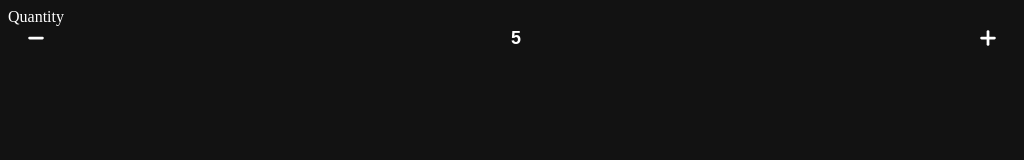
it: kit fields › the stepper counts up and down within its limits
Click the button named "More pieces" at (988, 38), box top-left (960, 26), bottom-right (1016, 50)
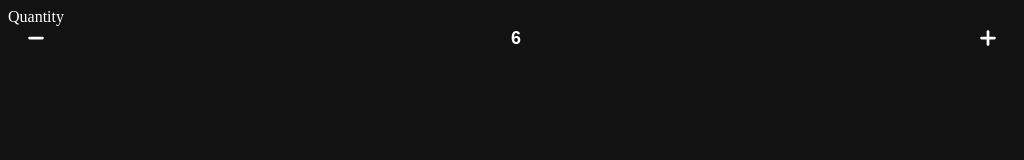
Click the button named "More pieces" at (988, 38), box top-left (960, 26), bottom-right (1016, 50)
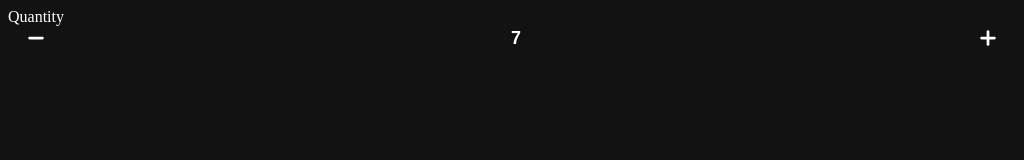
Result: the number field labelled "Quantity" holds "7"
Replace the text in the number field labelled "Quantity" with "0" at (516, 38), box top-left (64, 26), bottom-right (968, 50)
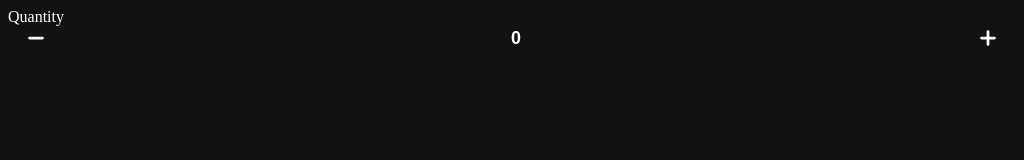
Leave the number field labelled "Quantity", box top-left (64, 26), bottom-right (968, 50)
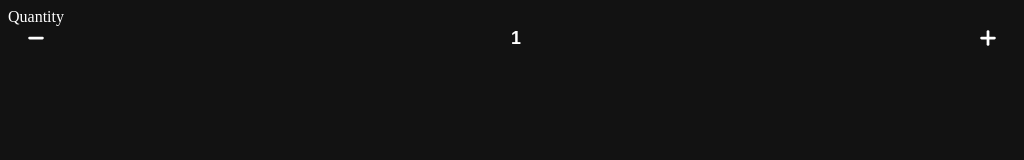
Expected: the button named "Less pieces" is disabled, top-left (8, 26), bottom-right (64, 50)
Result: the number field labelled "Quantity" holds "1" at top-left (64, 26), bottom-right (968, 50)
